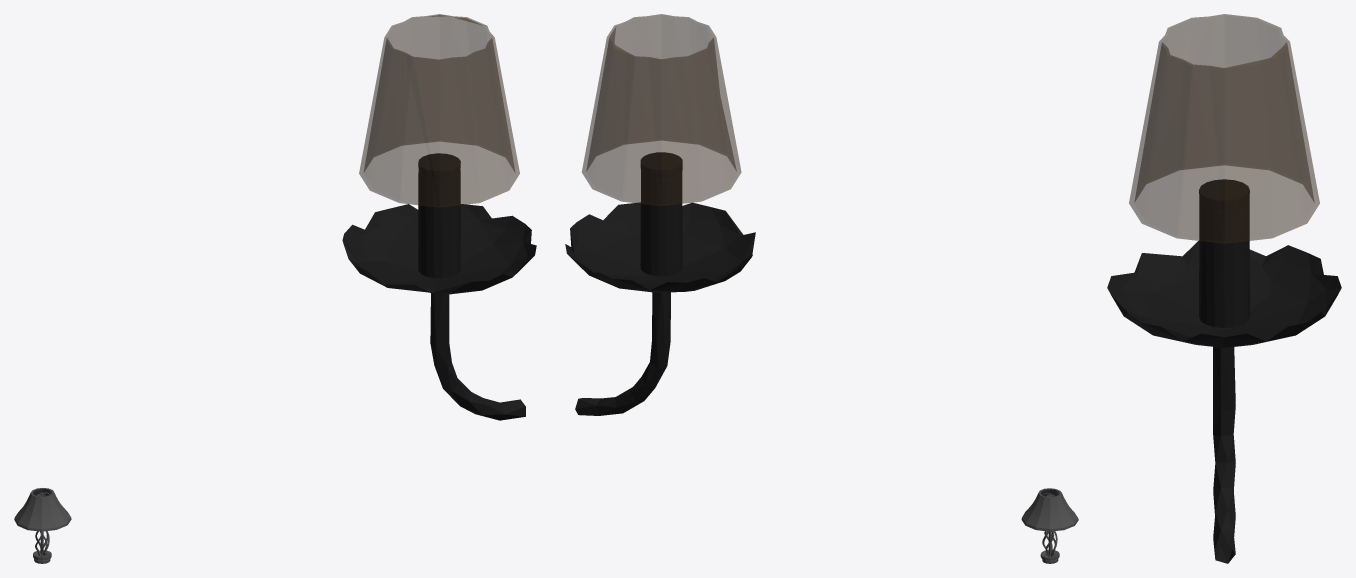
File: lamparapared.FBX
3 views of the same model, side by side, from view 1: azimuth 30°, elevation 25°; view 2: azimuth 150°, elevation 25°; view 3: azimuth 270°, elevation 25° (orthographic). The views are drawn at different scales.
Visible parts, largest first — view 1: ggl03, mtl03, Lampshade; view 2: ggl03, mtl03, Lampshade; view 3: ggl03, mtl03.
Boxes of the visible parts, <box> form: ggl03: <box>359,14,519,207</box>; mtl03: <box>342,153,536,420</box>; Lampshade: <box>14,488,71,531</box>; ggl03: <box>582,14,741,205</box>; mtl03: <box>565,152,755,415</box>; Lampshade: <box>1021,488,1078,531</box>; ggl03: <box>1129,14,1319,243</box>; mtl03: <box>1107,179,1341,563</box>.
Bounding box in the file's own units: 140 × 114 × 47.57.
